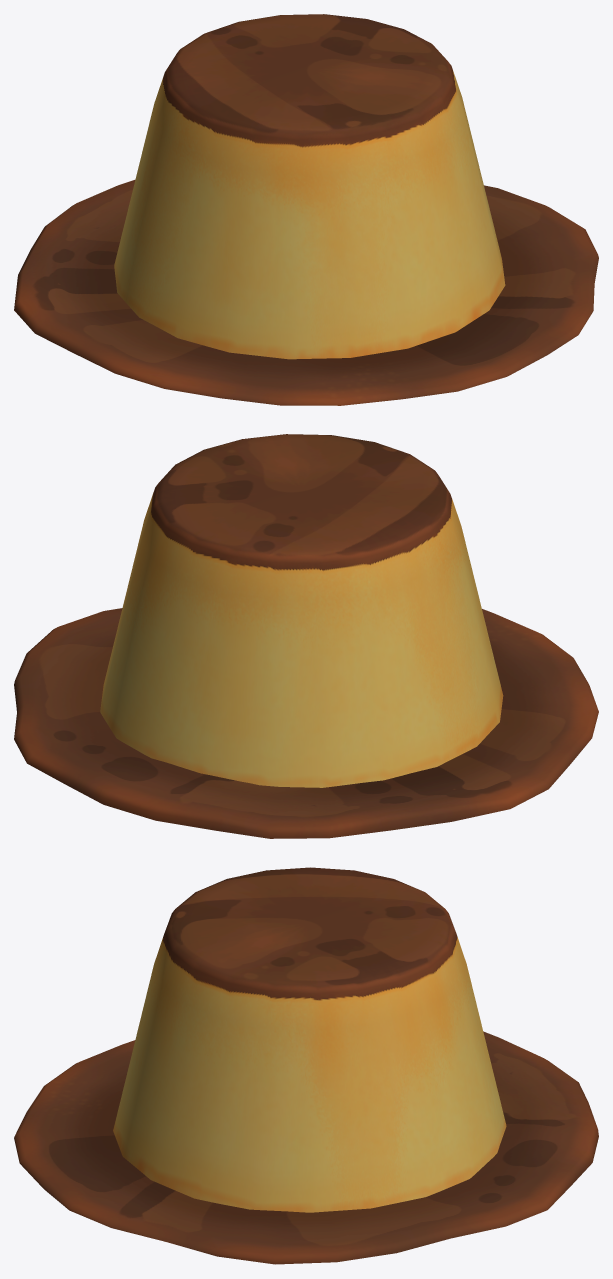
The model's file is pudding.glb.
3 renders of one model, top to bottom at view 1: azimuth 30°, elevation 25°; view 2: azimuth 150°, elevation 25°; view 3: azimuth 270°, elevation 25°, orthographic. The views are drawn at different scales.
Visible parts, largest first — view 1: Object_5; view 2: Object_5; view 3: Object_5.
Part boxes in pixels (x1,y1,x2,y2): Object_5: (14, 14, 598, 405); Object_5: (14, 434, 598, 838); Object_5: (14, 867, 598, 1264).
Bounding box in the file's own units: 4.63 × 1.84 × 4.53.
Materials: 1 (1 with a texture image).
